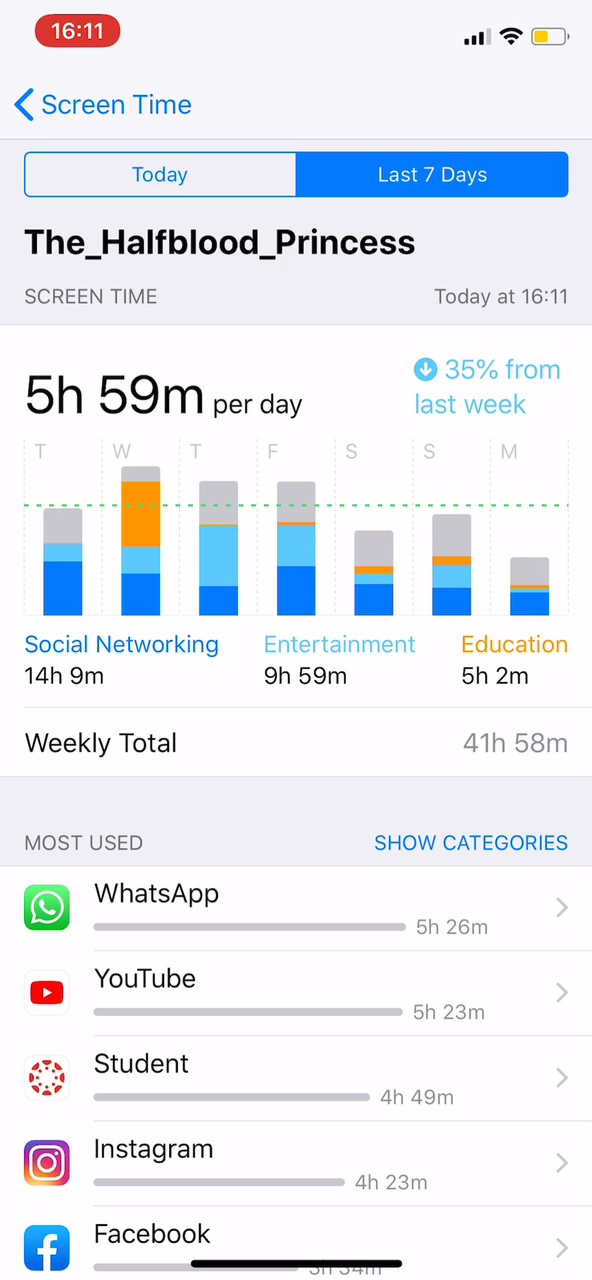use_over: (17, 630, 581, 766)
